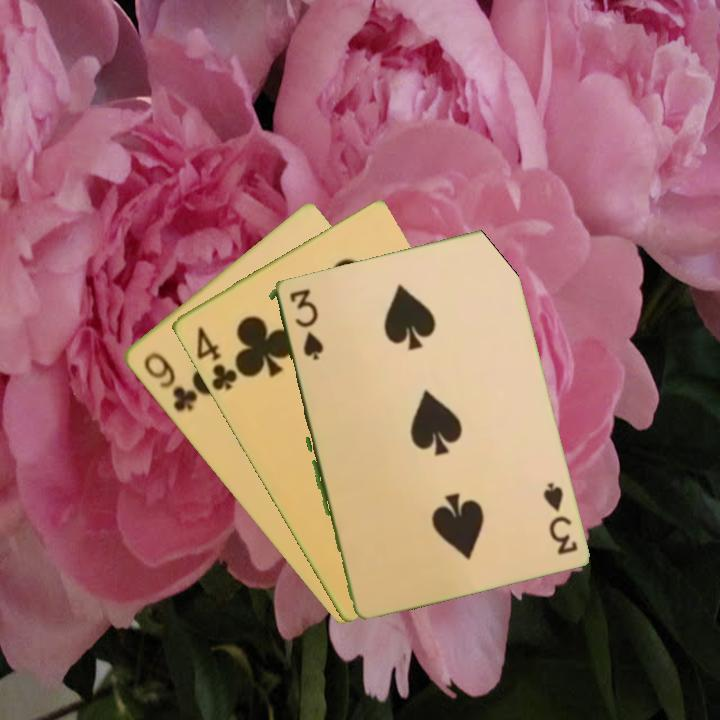3s: (538, 478, 581, 558), (285, 286, 322, 363)
4c: (192, 322, 240, 393)
9c: (139, 348, 200, 415)
